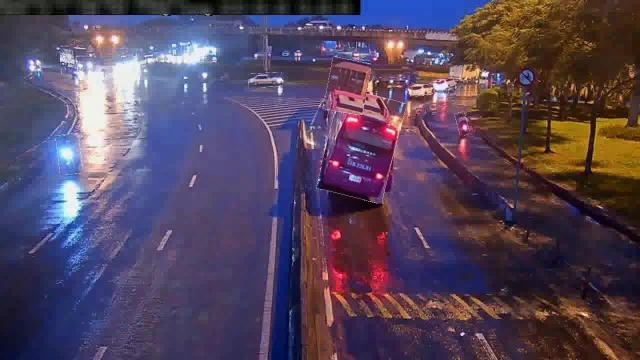Bike: (58, 133, 82, 174), (456, 112, 468, 136)
Bus: (322, 91, 401, 201)
Car: (249, 72, 283, 88), (410, 84, 434, 96), (433, 79, 455, 91)
Truck: (325, 58, 369, 114)
